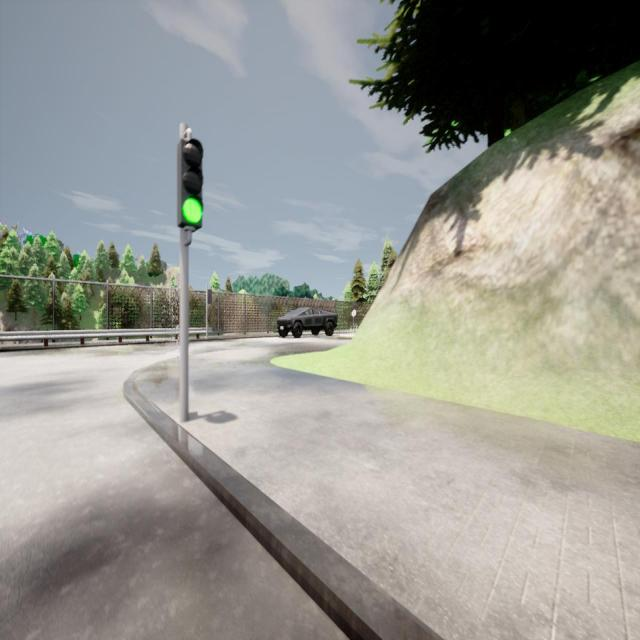Traffic_Signs: (351, 308, 356, 316)
Vehicle: (277, 306, 337, 337)
traffic_light: (177, 140, 203, 230), (207, 289, 212, 304)
